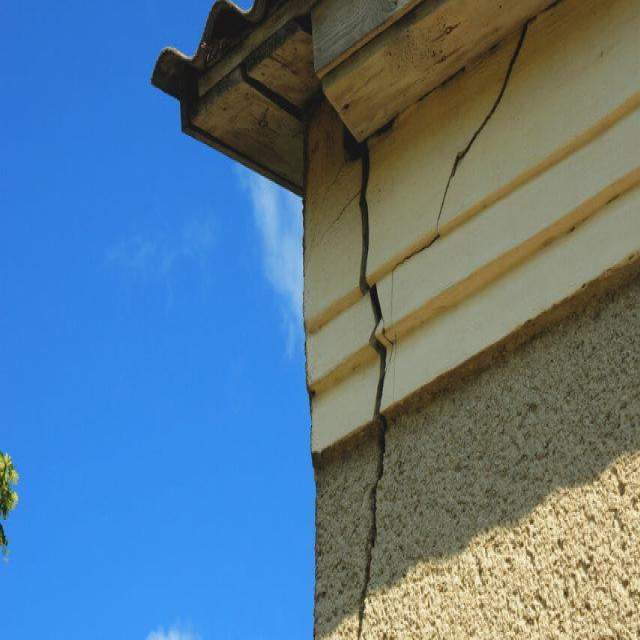Crack: (387, 12, 533, 362), (338, 114, 397, 635)
